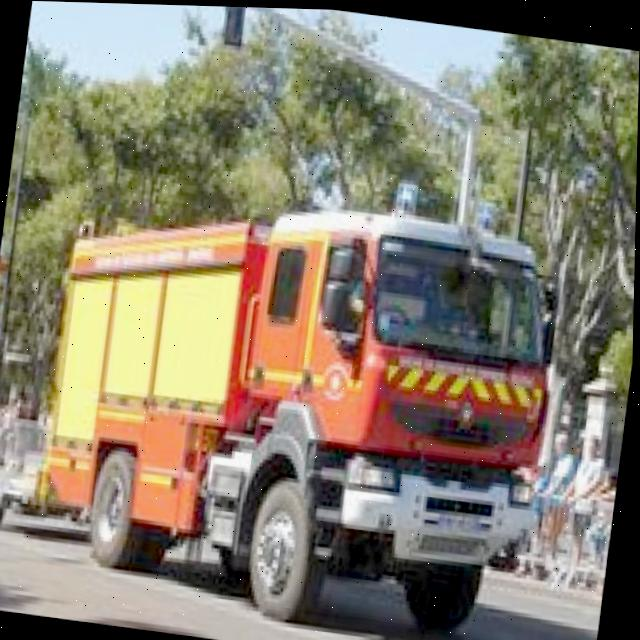emergency: (24, 150, 576, 640)
